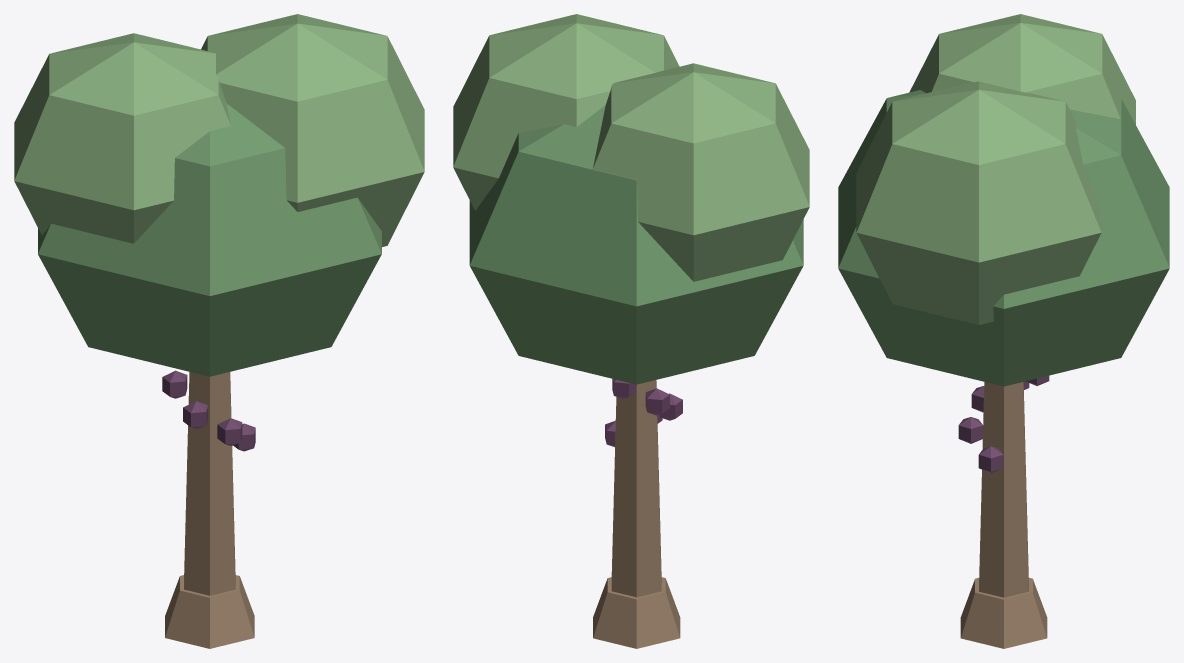
Rendered from tree-low.glb.
3 renders of one model, left to right at view 1: azimuth 30°, elevation 25°; view 2: azimuth 150°, elevation 25°; view 3: azimuth 270°, elevation 25°, orthographic. The views are drawn at different scales.
Visible parts, largest first — view 1: TreeLow; view 2: TreeLow; view 3: TreeLow.
Boxes of the visible parts, bbox=[...] form: TreeLow: bbox=[14, 14, 424, 648]; TreeLow: bbox=[453, 14, 809, 648]; TreeLow: bbox=[838, 14, 1169, 648].
Bounding box in the file's own units: 2.6 × 3.8 × 1.99.
